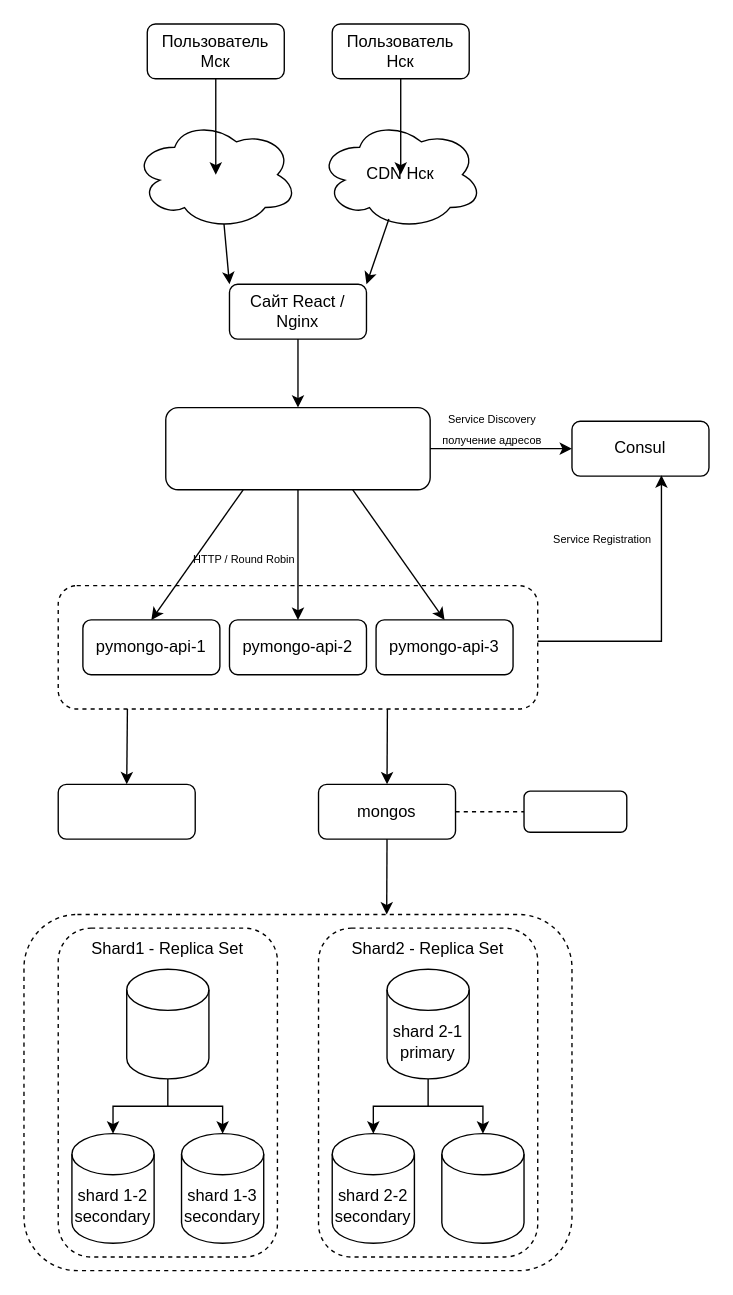
The diagram is 733 pixels wide and 1295 high, and some of its shapes have lost their labels. Each missing label, with the centre of its shape:
APISIX gateway: [297,448]
CDN Мск: [215,174]
configSrv: [575,811]
Redis: [126,811]
shard 1-1 primary: [167,1023]
shard 2-3 secondary: [482,1187]
